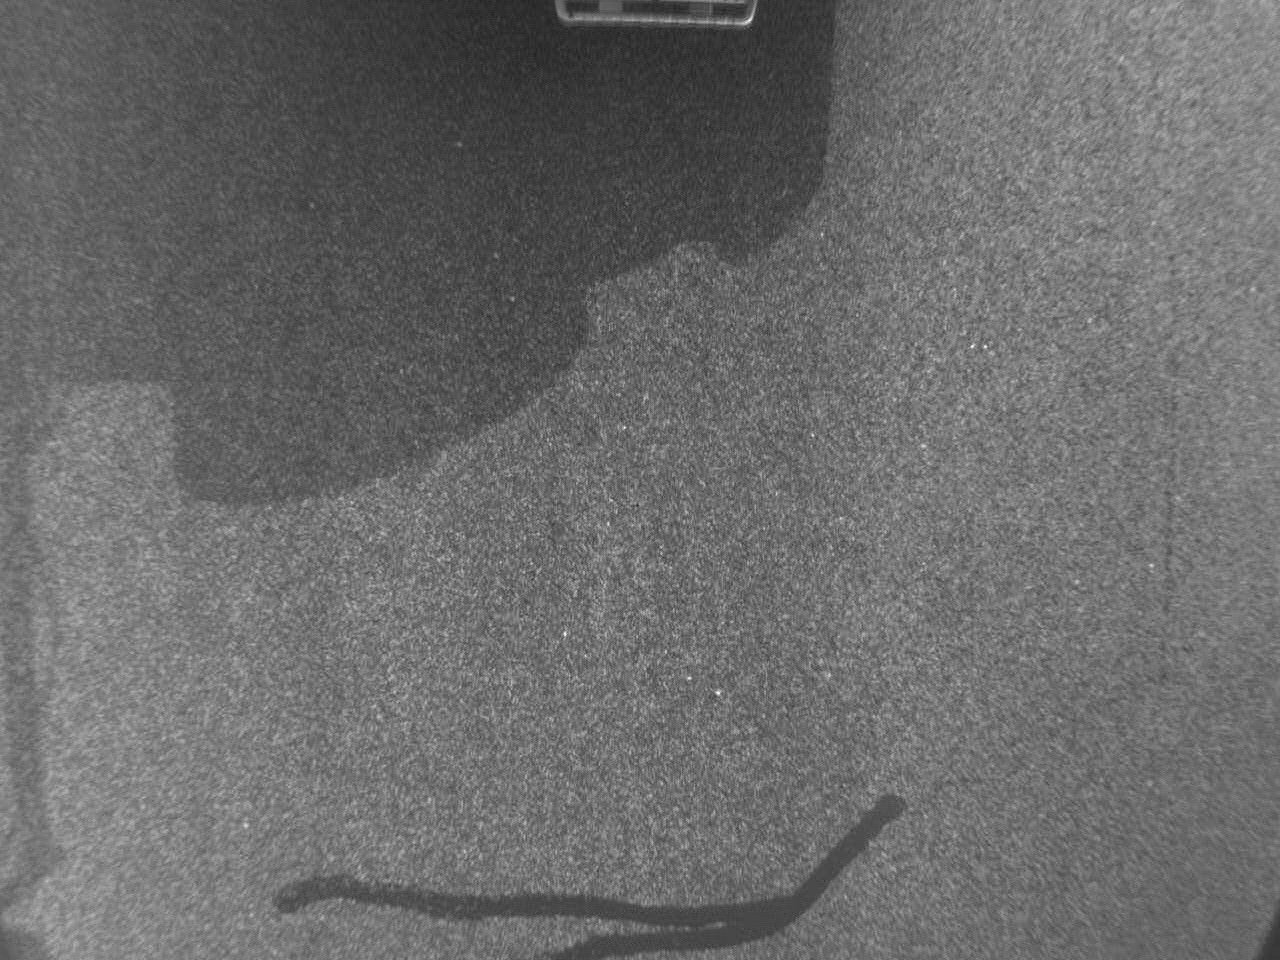sealed: (274, 784, 920, 959)
